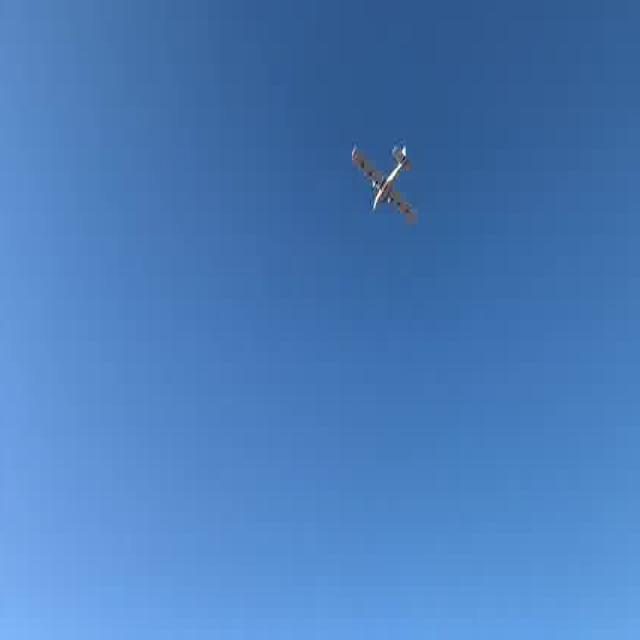iha: (382, 167, 385, 206)
